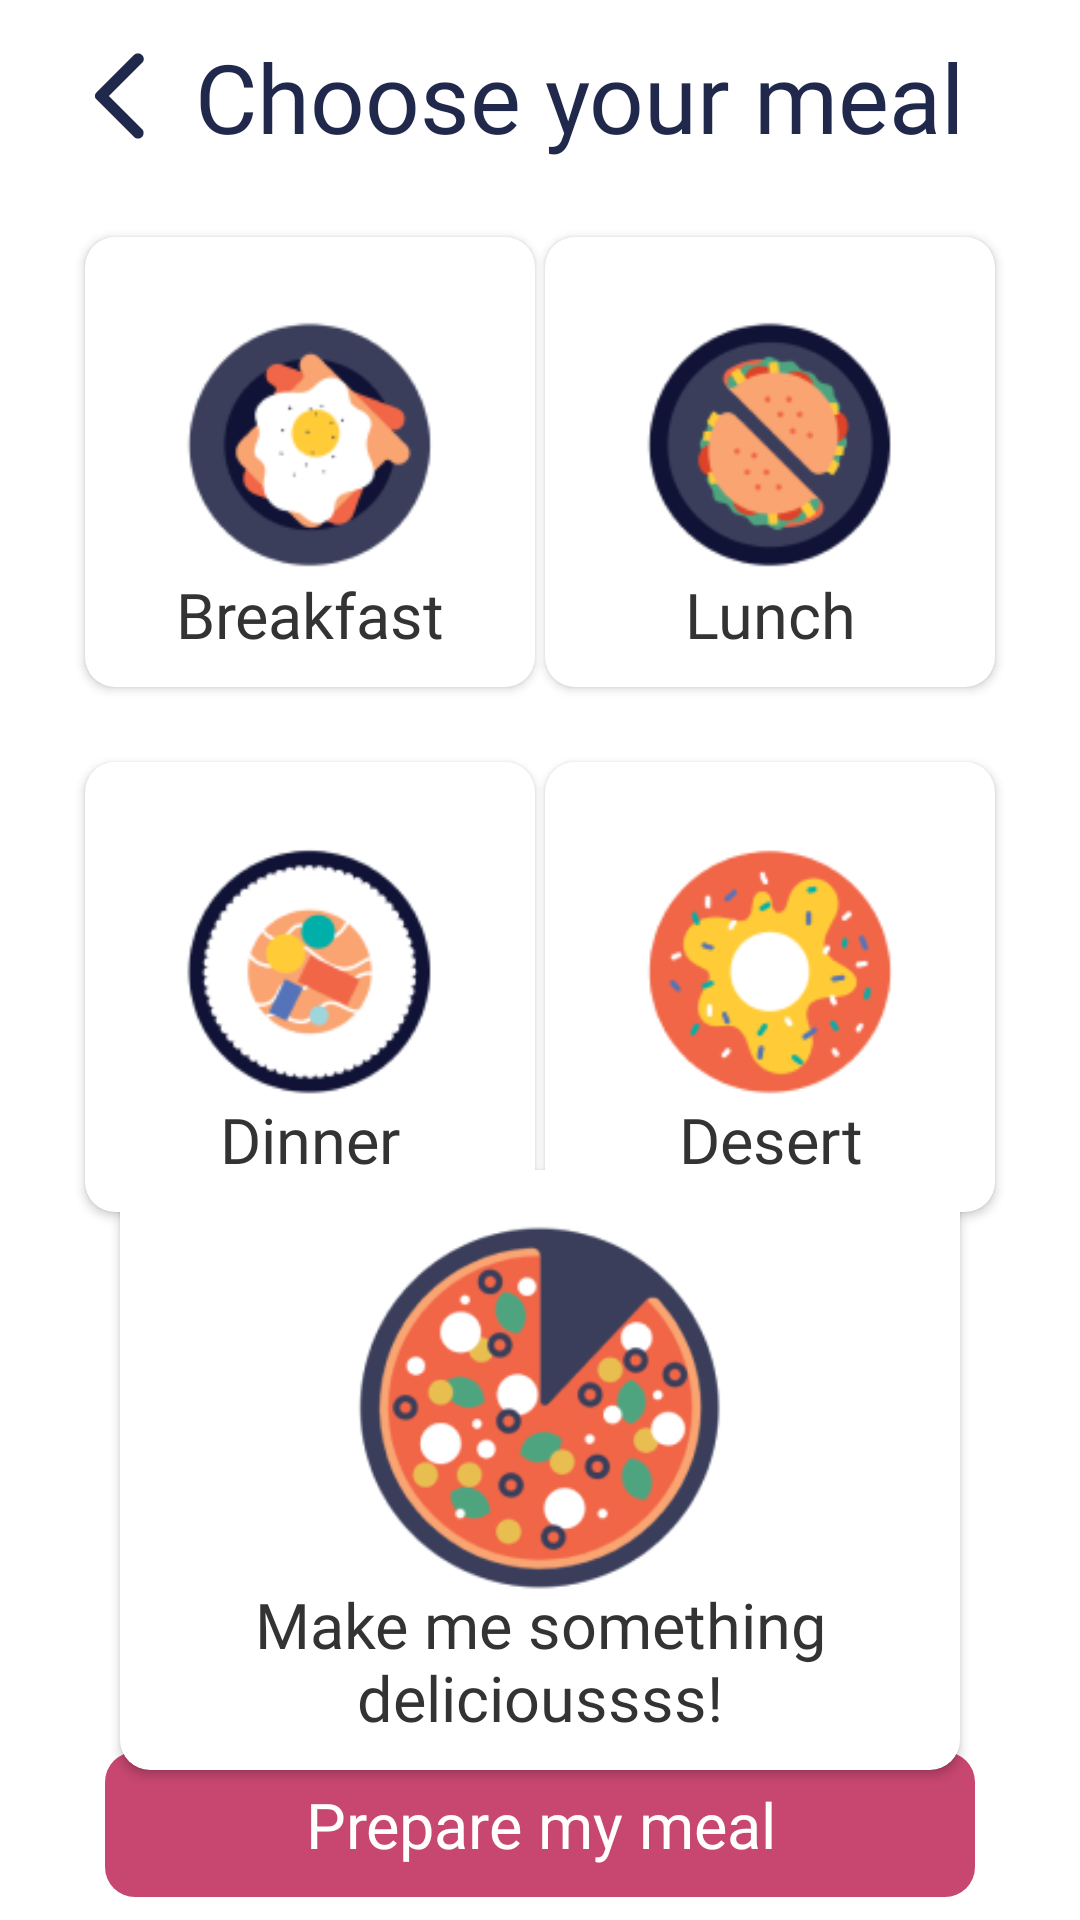

Named icons in this screenshot (1080w x 1920h) and their bounding boxes, {"left": x1, "top": y1, "right": x2, "bottom": y2}:
back: {"left": 95, "top": 53, "right": 144, "bottom": 139}
